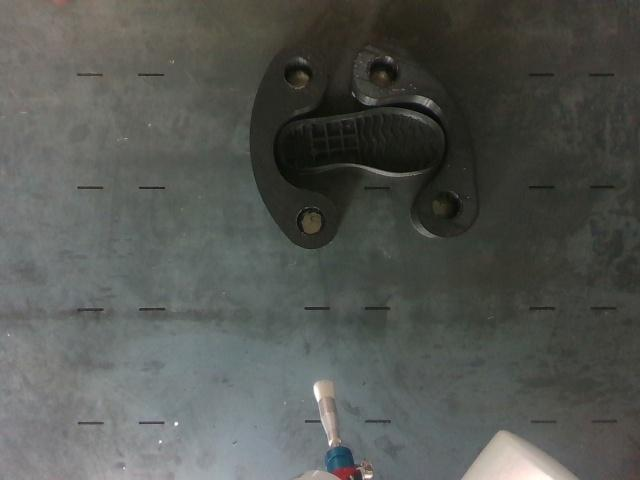shoes: (278, 108, 444, 173)
